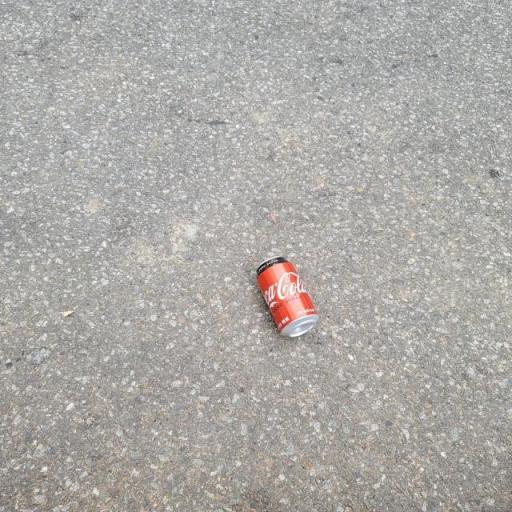metal: (240, 235, 322, 354)
